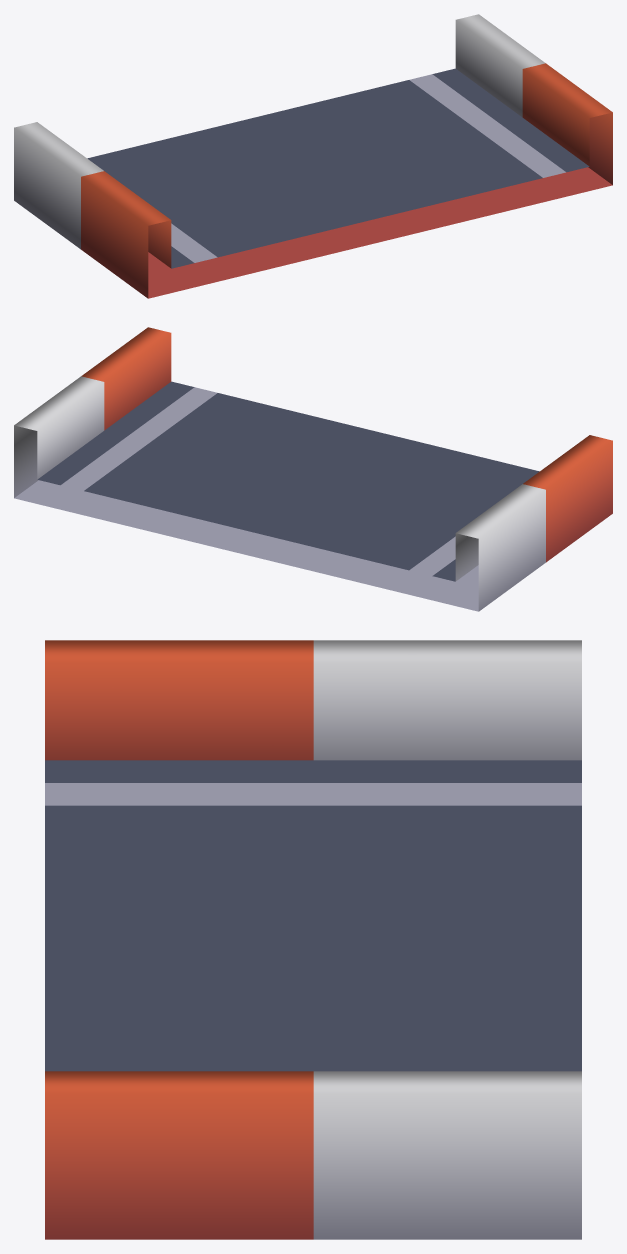
File: track-road-wide.glb
The picture shows the model from 3 angles, top to bottom: view 1: azimuth 30°, elevation 25°; view 2: azimuth 150°, elevation 25°; view 3: azimuth 270°, elevation 25°; orthographic projection. The views are drawn at different scales.
Visible parts, largest first — view 1: track-road-wide; view 2: track-road-wide; view 3: track-road-wide.
Boxes of the visible parts, x1,y1,x2,y2 form: track-road-wide: (14, 14, 612, 298); track-road-wide: (14, 327, 612, 611); track-road-wide: (45, 640, 581, 1239).
Size of the model in its own units: 2 by 0.3 by 1.
